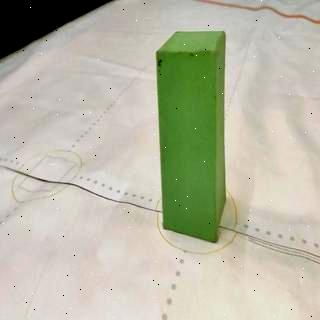greenbox: (156, 30, 226, 240)
